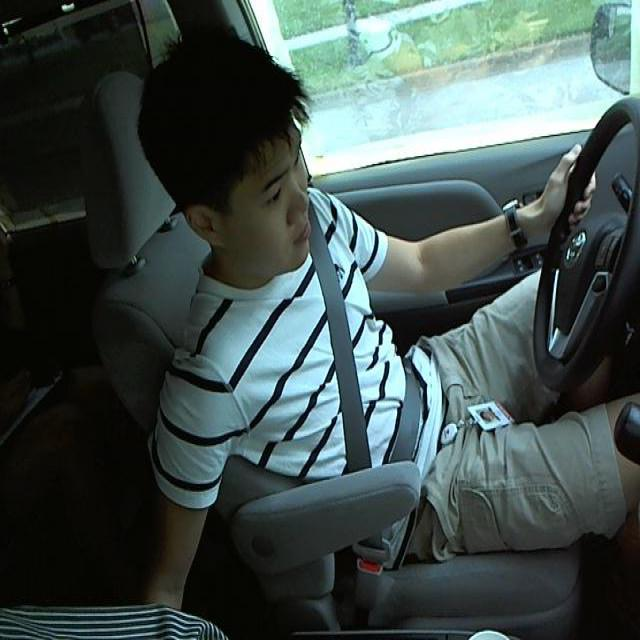seatbelt: (304, 259, 427, 512)
